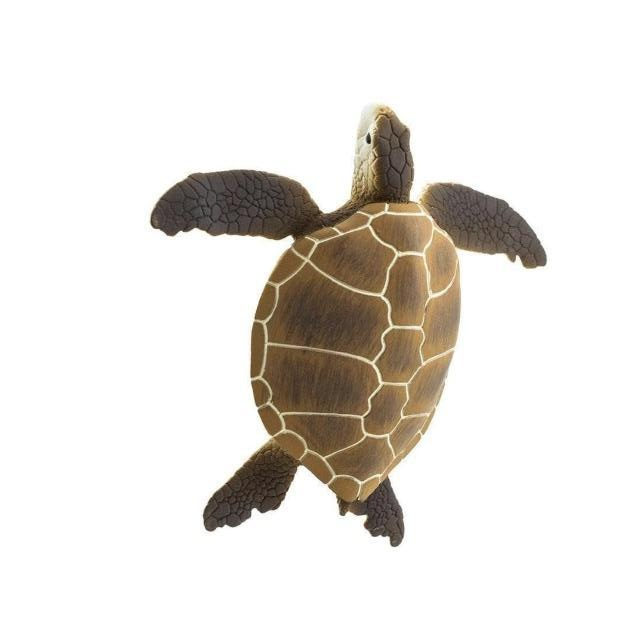turtle: (148, 100, 551, 548)
